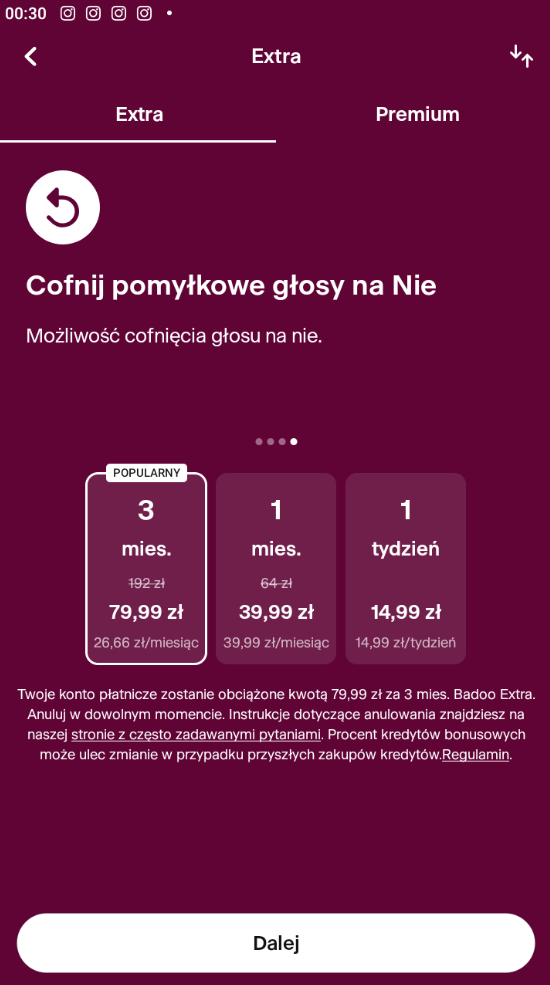kupno_button: (17, 910, 534, 974)
